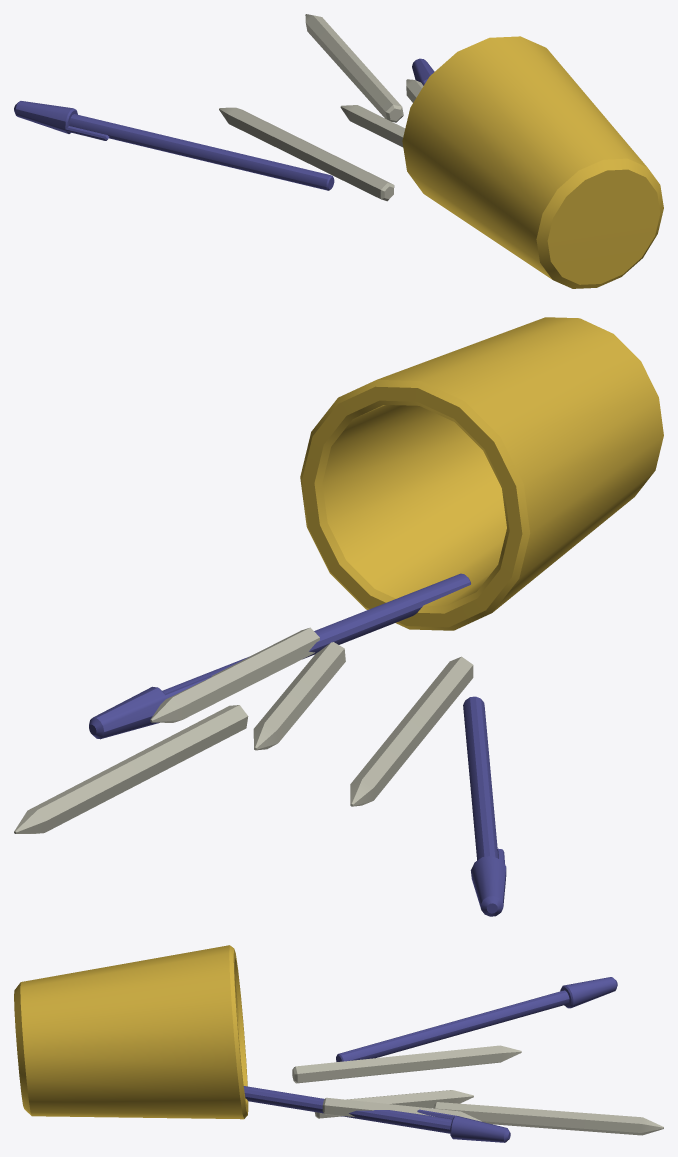
Rendered from SM_Pencil_Cup_Fallen.fbx.
3 renders of one model, top to bottom at view 1: azimuth 30°, elevation 25°; view 2: azimuth 150°, elevation 25°; view 3: azimuth 270°, elevation 25°, orthographic. The views are drawn at different scales.
Visible parts, largest first — view 1: group5_SM_pencil_short1; view 2: group5_SM_pencil_short1; view 3: group5_SM_pencil_short1.
Boxes of the visible parts, bbox=[...] form: group5_SM_pencil_short1: bbox=[14, 14, 663, 288]; group5_SM_pencil_short1: bbox=[14, 317, 663, 916]; group5_SM_pencil_short1: bbox=[14, 945, 663, 1142].
Size of the model in its own units: 28.75 by 13.48 by 49.77.
